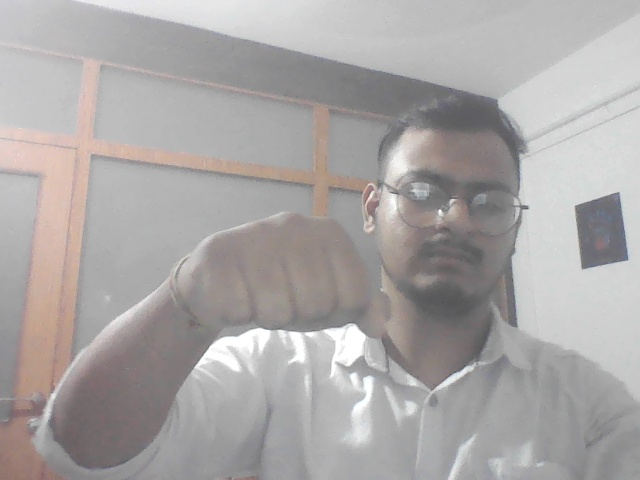YES: (179, 206, 405, 363)
